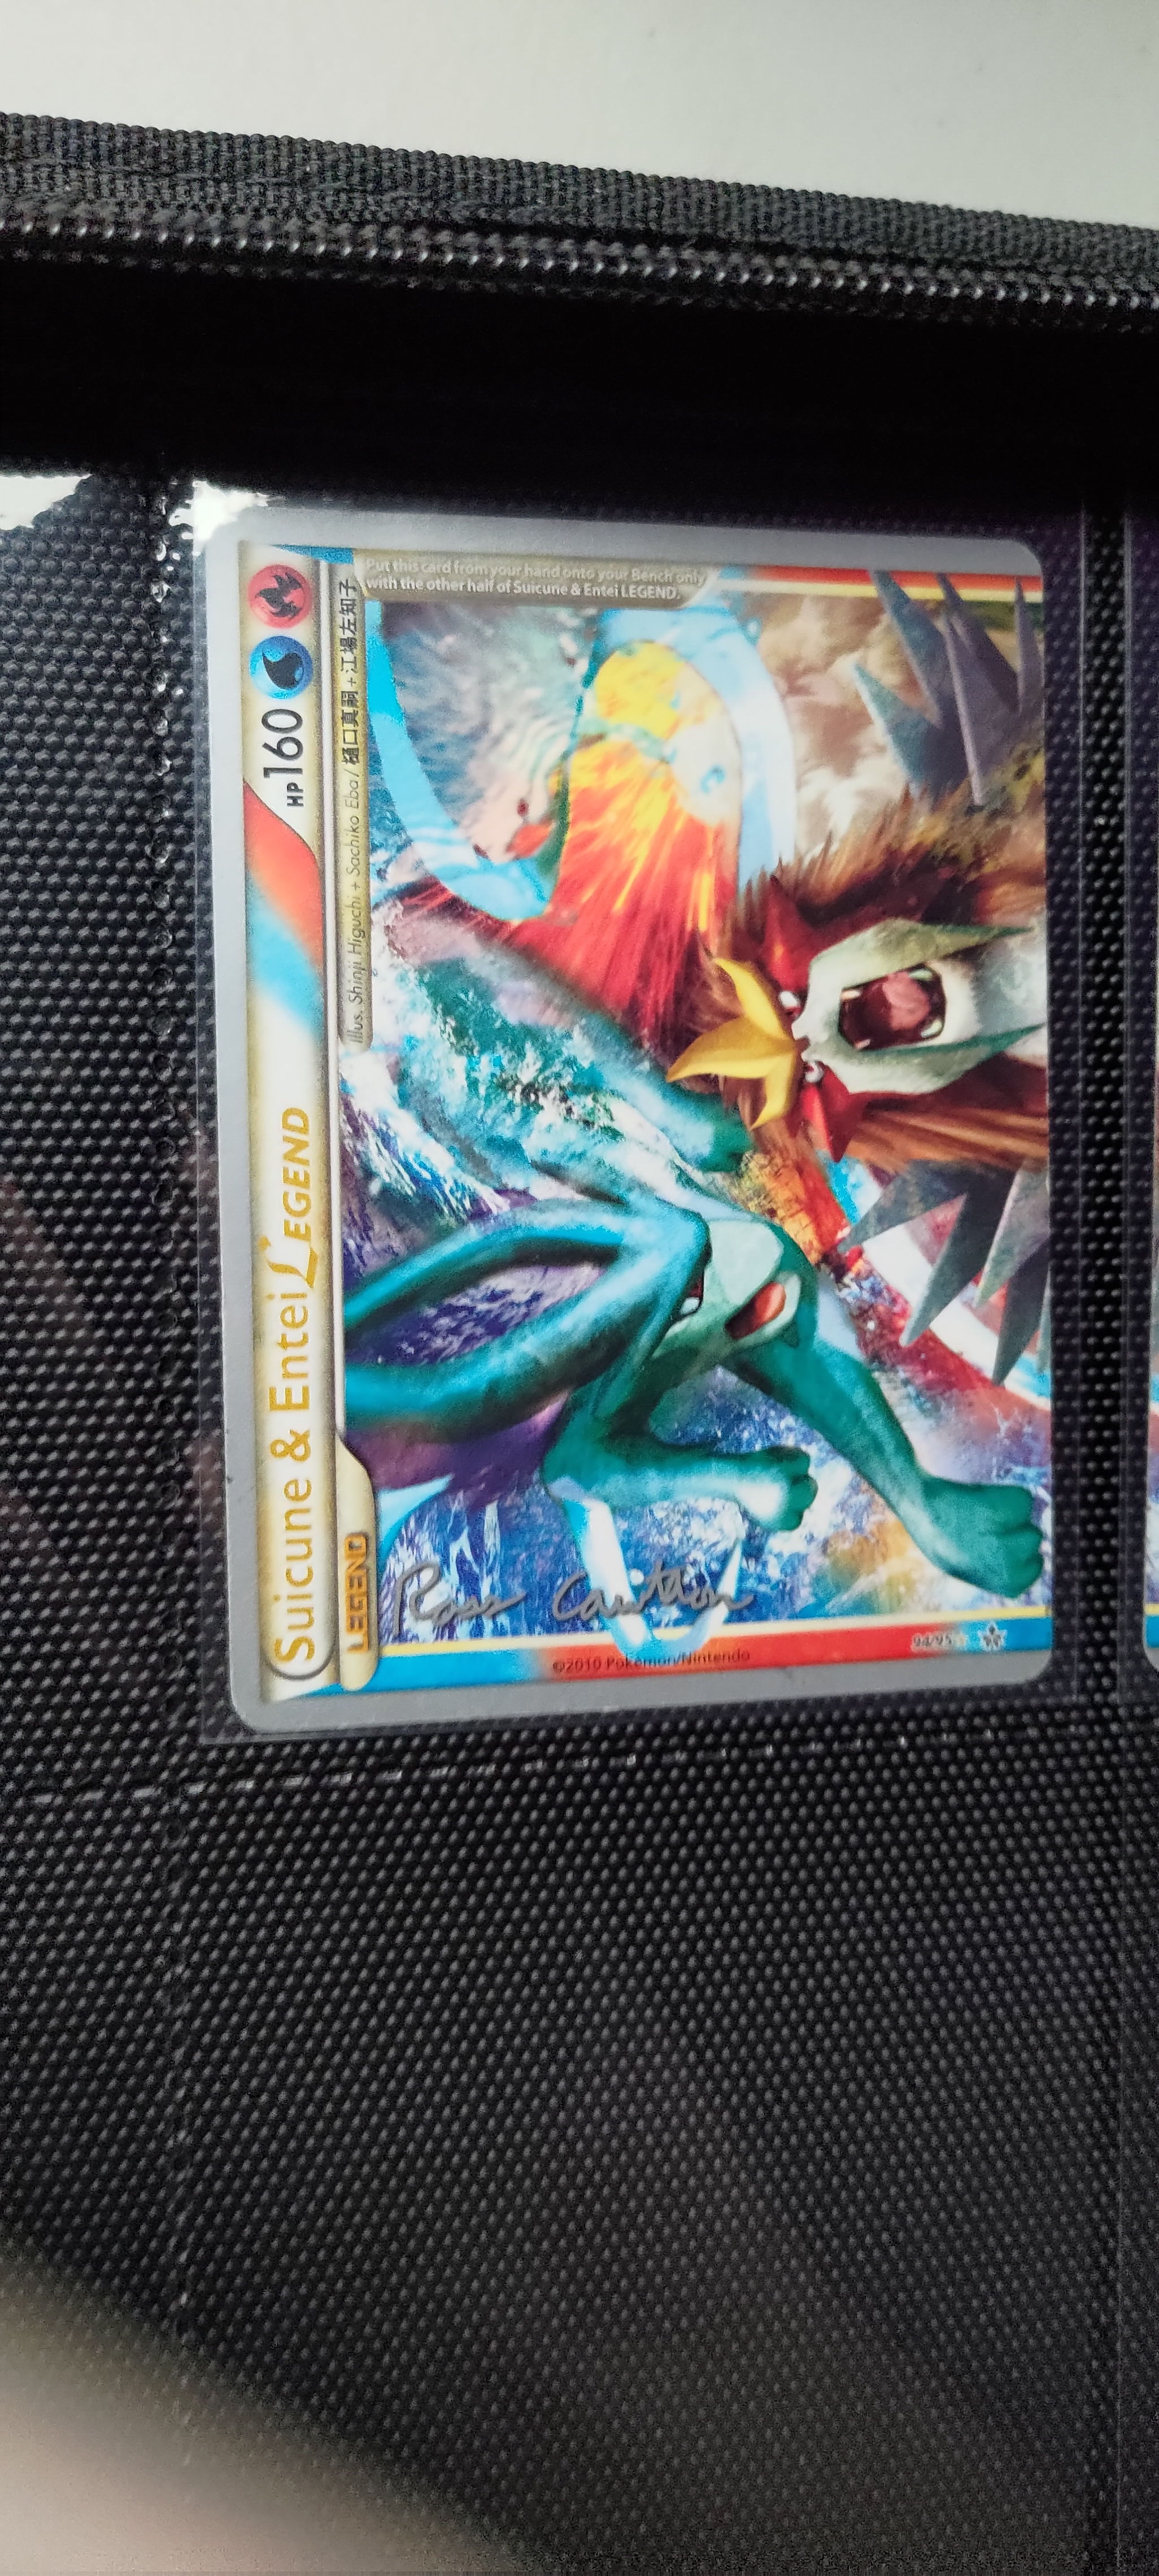pokemon_card: (176, 493, 1079, 1738)
